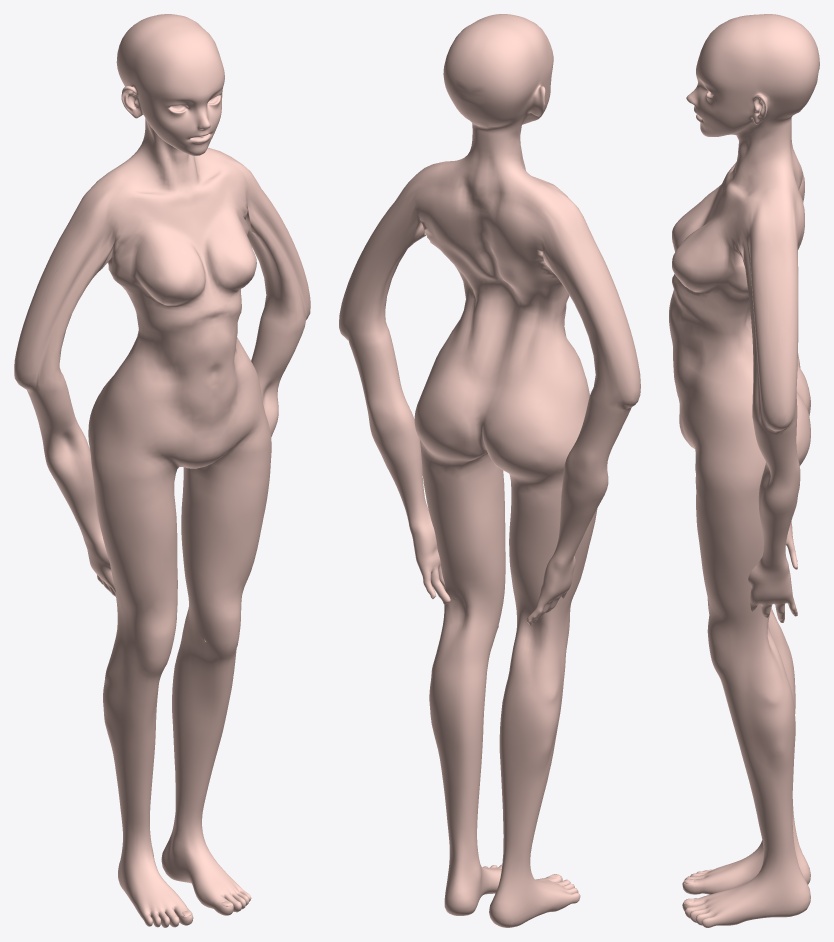
File: skin.glb
3 views of the same model, side by side, from view 1: azimuth 30°, elevation 25°; view 2: azimuth 150°, elevation 25°; view 3: azimuth 270°, elevation 25° (orthographic).
Parts seen in each view (by area): view 1: F_Skin; view 2: F_Skin; view 3: F_Skin.
Part boxes in pixels (box(x1,y1,x2,y2)): F_Skin: box(14, 14, 310, 927); F_Skin: box(339, 14, 640, 927); F_Skin: box(669, 14, 819, 927).
Size of the model in its own units: 0.5589 by 1.6 by 0.2474.
